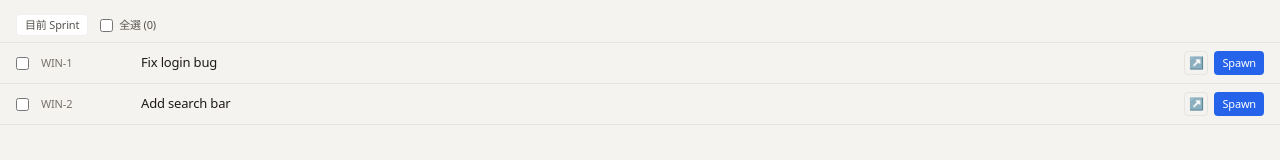
Scenario: IssuePanel › shows inline error when spawn fails
This screenshot has width=1280, height=160.
expect the text "WIN-1" is shown: met, box top-left (41, 55), bottom-right (72, 70)
Click the button "Spawn" in the row of "Fix login bug" at (1239, 63), box top-left (1214, 51), bottom-right (1264, 75)
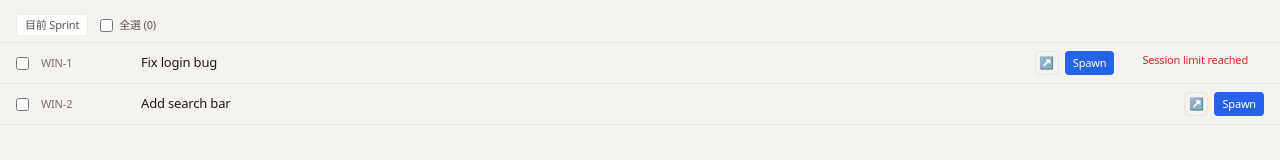
expect the text "Session limit reached" is shown: met, box top-left (1142, 52), bottom-right (1248, 67)
